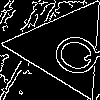Q: (39, 23, 100, 83)
